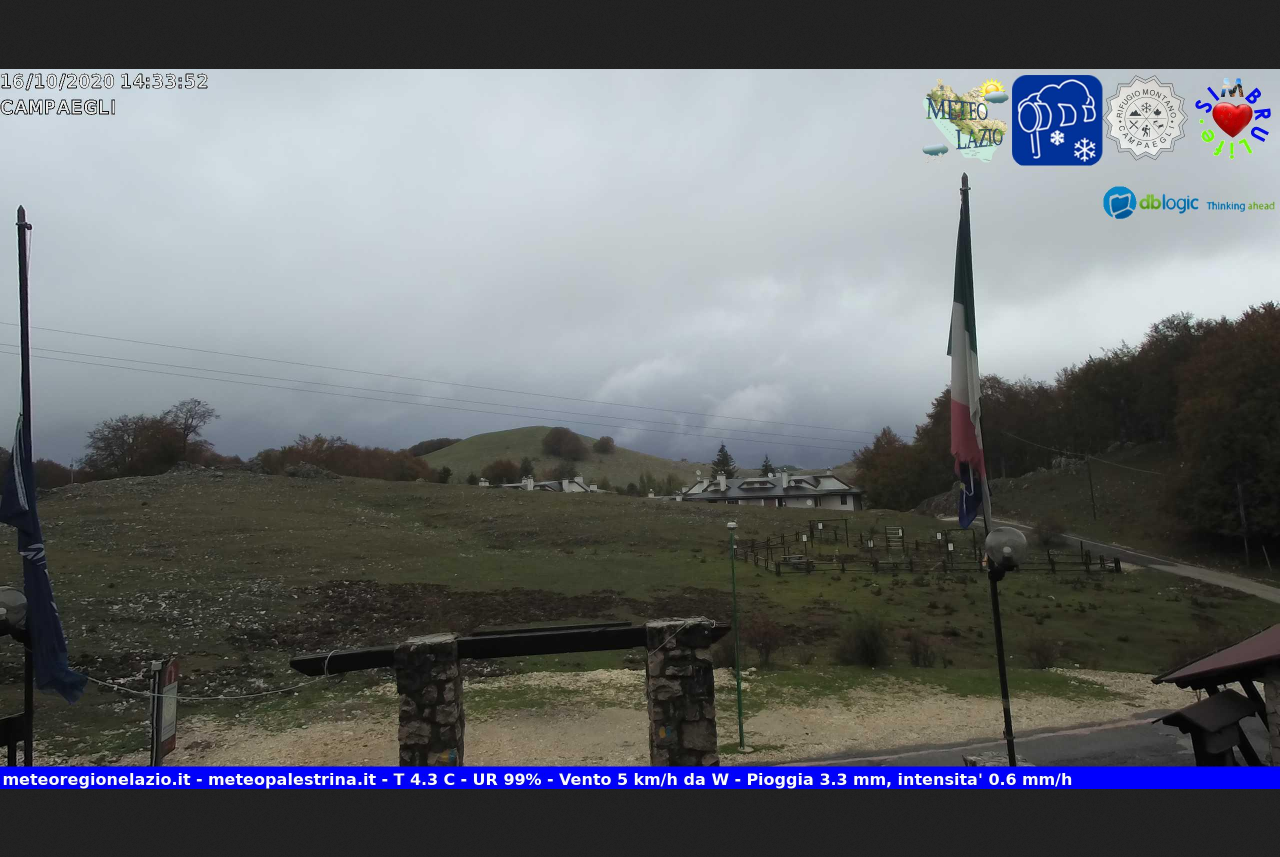no: (2, 411, 86, 704), (945, 193, 982, 469)
